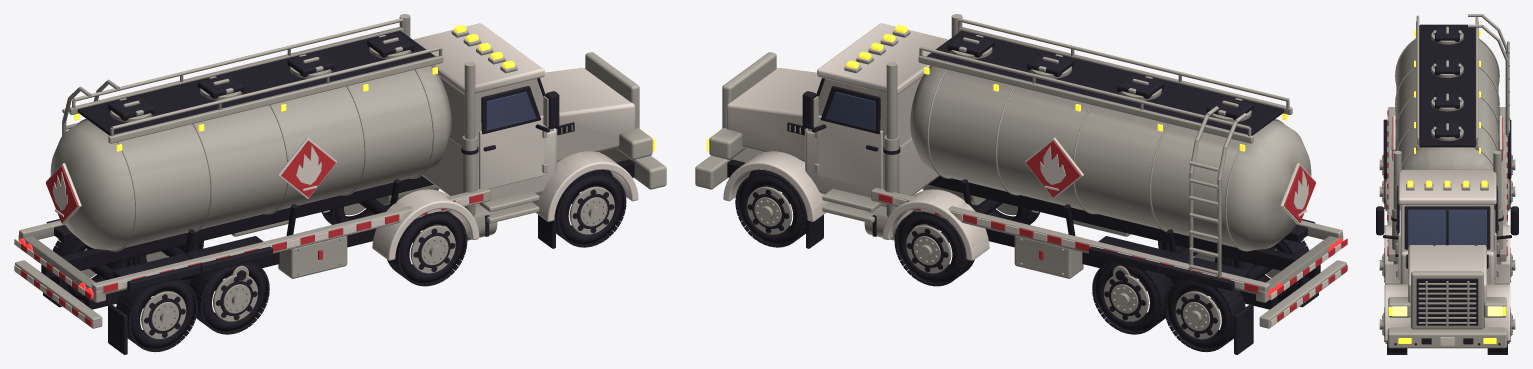
3 views of the same model, side by side, from view 1: azimuth 30°, elevation 25°; view 2: azimuth 150°, elevation 25°; view 3: azimuth 270°, elevation 25° (orthographic). The views are drawn at different scales.
Visible parts, largest first — view 1: body_pal_silver, body_pal_picketWhite, body_pal_uiDark, doorL_pal_picketWhite, body_pal_survivorRed, wheelRL_pal_uiDark, wheelM2L_pal_uiDark, wheelM1L_pal_uiDark, wheelFL_pal_uiDark, doorL_pal_denim, doorL_pal_uiDark, wheelM1L_pal_silver (+5 smaller); view 2: body_pal_silver, body_pal_picketWhite, body_pal_uiDark, doorR_pal_picketWhite, body_pal_survivorRed, wheelRR_pal_uiDark, wheelM2R_pal_uiDark, wheelM1R_pal_uiDark, wheelFR_pal_uiDark, doorR_pal_denim, doorR_pal_uiDark, wheelRR_pal_silver (+5 smaller); view 3: body_pal_silver, body_pal_uiDark, body_pal_picketWhite, body_pal_denim, body_emi_schoolBusYellow, doorL_pal_uiDark, doorR_pal_uiDark, body_pal_survivorRed, wheelFL_pal_uiDark, wheelFR_pal_uiDark, doorL_pal_picketWhite, doorR_pal_picketWhite (+4 smaller).
Boxes of the visible parts, left/top/right/bottom form: body_pal_silver: left=15, top=14, right=666, bottom=328; body_pal_picketWhite: left=14, top=23, right=638, bottom=321; body_pal_uiDark: left=41, top=30, right=634, bottom=354; doorL_pal_picketWhite: left=479, top=115, right=544, bottom=188; body_pal_survivorRed: left=20, top=140, right=483, bottom=326; wheelRL_pal_uiDark: left=116, top=278, right=197, bottom=351; wheelM2L_pal_uiDark: left=189, top=261, right=269, bottom=334; wheelM1L_pal_uiDark: left=387, top=211, right=467, bottom=286; wheelFL_pal_uiDark: left=554, top=169, right=626, bottom=247; doorL_pal_denim: left=486, top=92, right=536, bottom=130; doorL_pal_uiDark: left=481, top=86, right=559, bottom=151; wheelM1L_pal_silver: left=410, top=225, right=455, bottom=273; body_pal_silver: left=695, top=14, right=1346, bottom=328; body_pal_picketWhite: left=723, top=23, right=1341, bottom=326; body_pal_uiDark: left=727, top=30, right=1320, bottom=354; doorR_pal_picketWhite: left=817, top=115, right=882, bottom=188; body_pal_survivorRed: left=878, top=140, right=1347, bottom=321; wheelRR_pal_uiDark: left=1164, top=278, right=1245, bottom=351; wheelM2R_pal_uiDark: left=1092, top=261, right=1172, bottom=334; wheelM1R_pal_uiDark: left=894, top=211, right=974, bottom=286; wheelFR_pal_uiDark: left=735, top=169, right=807, bottom=247; doorR_pal_denim: left=825, top=92, right=875, bottom=130; doorR_pal_uiDark: left=802, top=86, right=880, bottom=151; wheelRR_pal_silver: left=1175, top=291, right=1220, bottom=339; body_pal_silver: left=1385, top=14, right=1509, bottom=348; body_pal_uiDark: left=1383, top=24, right=1511, bottom=345; body_pal_picketWhite: left=1384, top=115, right=1510, bottom=345; body_pal_denim: left=1408, top=209, right=1486, bottom=246; body_emi_schoolBusYellow: left=1388, top=30, right=1506, bottom=343; doorL_pal_uiDark: left=1376, top=185, right=1399, bottom=239; doorR_pal_uiDark: left=1495, top=185, right=1518, bottom=239; body_pal_survivorRed: left=1387, top=110, right=1507, bottom=256; wheelFL_pal_uiDark: left=1384, top=307, right=1407, bottom=354; wheelFR_pal_uiDark: left=1487, top=307, right=1510, bottom=354; doorL_pal_picketWhite: left=1398, top=210, right=1400, bottom=279; doorR_pal_picketWhite: left=1494, top=210, right=1496, bottom=279.
Bounding box in the file's own units: 11.26 × 4.17 × 3.16.
